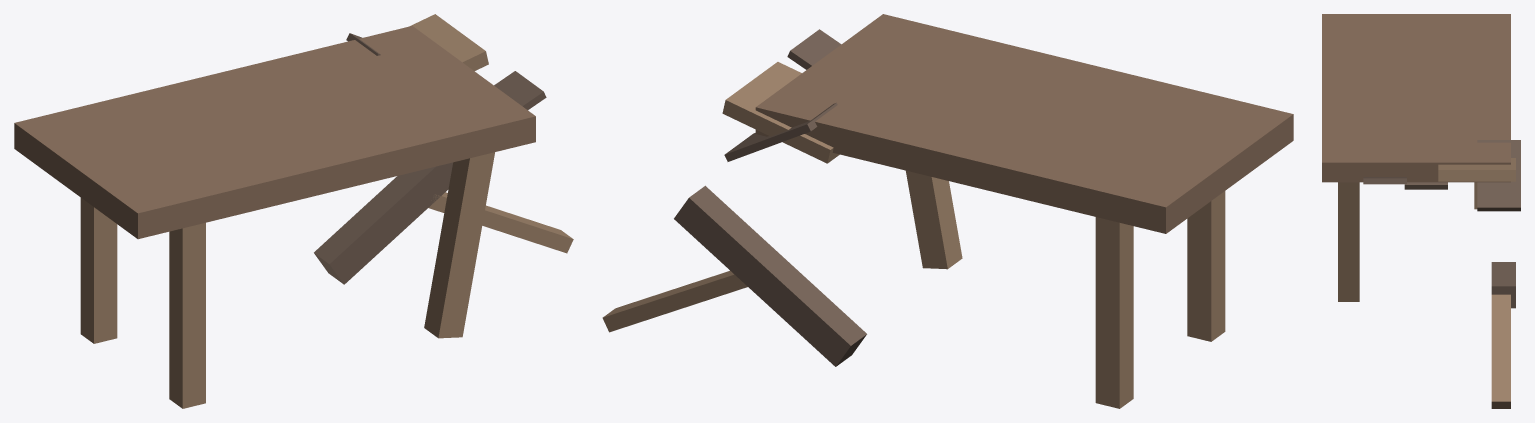
The model's file is Collapsed_Table.glb.
3 views of the same model, side by side, from view 1: azimuth 30°, elevation 25°; view 2: azimuth 150°, elevation 25°; view 3: azimuth 270°, elevation 25° (orthographic). The views are drawn at different scales.
Visible parts, largest first — view 1: Collapsed_Table_piece_000, Collapsed_Table_piece_003, Collapsed_Table_piece_001, Collapsed_Table_piece_004, Collapsed_Table_piece_002, Collapsed_Table_piece_009, Collapsed_Table_piece_008, Collapsed_Table_piece_006; view 2: Collapsed_Table_piece_000, Collapsed_Table_piece_004, Collapsed_Table_piece_002, Collapsed_Table_piece_001, Collapsed_Table_piece_003, Collapsed_Table_piece_008, Collapsed_Table_piece_009, Collapsed_Table_piece_007, Collapsed_Table_piece_006; view 3: Collapsed_Table_piece_000, Collapsed_Table_piece_003, Collapsed_Table_piece_009, Collapsed_Table_piece_007, Collapsed_Table_piece_008, Collapsed_Table_piece_004, Collapsed_Table_piece_006, Collapsed_Table_piece_005.
Boxes of the visible parts, x1,y1,x2,y2 form: Collapsed_Table_piece_000: (14,26,535,239); Collapsed_Table_piece_003: (424,152,494,338); Collapsed_Table_piece_001: (169,222,205,408); Collapsed_Table_piece_004: (314,162,452,284); Collapsed_Table_piece_002: (80,198,117,343); Collapsed_Table_piece_009: (428,192,573,253); Collapsed_Table_piece_008: (409,14,488,71); Collapsed_Table_piece_006: (494,71,546,109); Collapsed_Table_piece_000: (755,14,1293,233); Collapsed_Table_piece_004: (674,185,866,366); Collapsed_Table_piece_002: (1095,217,1133,408); Collapsed_Table_piece_001: (1187,191,1225,341); Collapsed_Table_piece_003: (906,170,962,269); Collapsed_Table_piece_008: (722,62,839,163); Collapsed_Table_piece_009: (602,271,747,332); Collapsed_Table_piece_007: (724,103,837,161); Collapsed_Table_piece_006: (787,29,841,69); Collapsed_Table_piece_000: (1322,14,1510,182); Collapsed_Table_piece_003: (1338,182,1359,301); Collapsed_Table_piece_009: (1491,294,1510,408); Collapsed_Table_piece_007: (1477,140,1520,211); Collapsed_Table_piece_008: (1438,158,1515,181); Collapsed_Table_piece_004: (1491,262,1515,308); Collapsed_Table_piece_006: (1363,177,1406,184); Collapsed_Table_piece_005: (1404,182,1447,189).
Size of the model in its own units: 1.99 by 0.8918 by 0.82.
